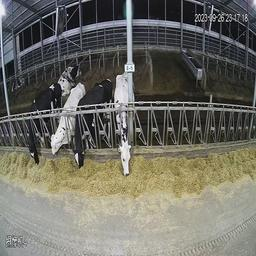cow: (73, 79, 113, 173), (28, 84, 64, 167), (52, 82, 86, 159), (114, 72, 137, 176), (57, 63, 82, 95)
